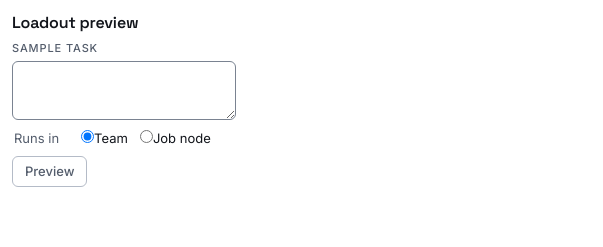
Test: LoadoutPreview › says so when the núcleo refuses
What coordinates should you click on to do the following:
click the button "Preview"
I would click on:
 (50, 171)
Its box is [12,156,88,187].
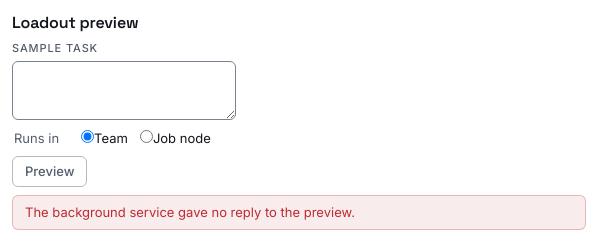
Expected: the message "The background service gave no reply to the preview." is shown, [12,195,586,230]
